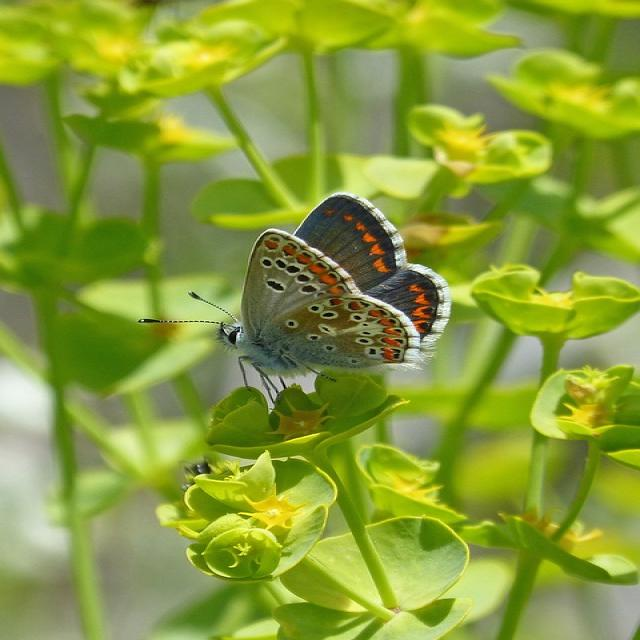butterfly: (220, 192, 452, 390)
